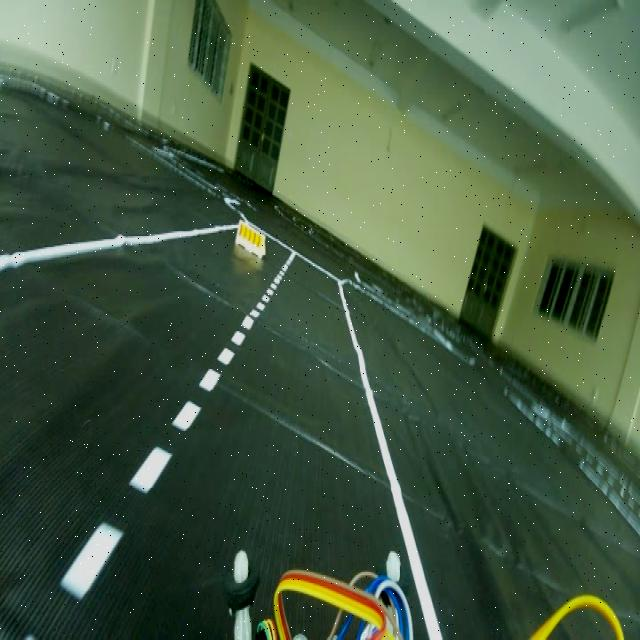roadblock: (233, 211, 273, 264)
